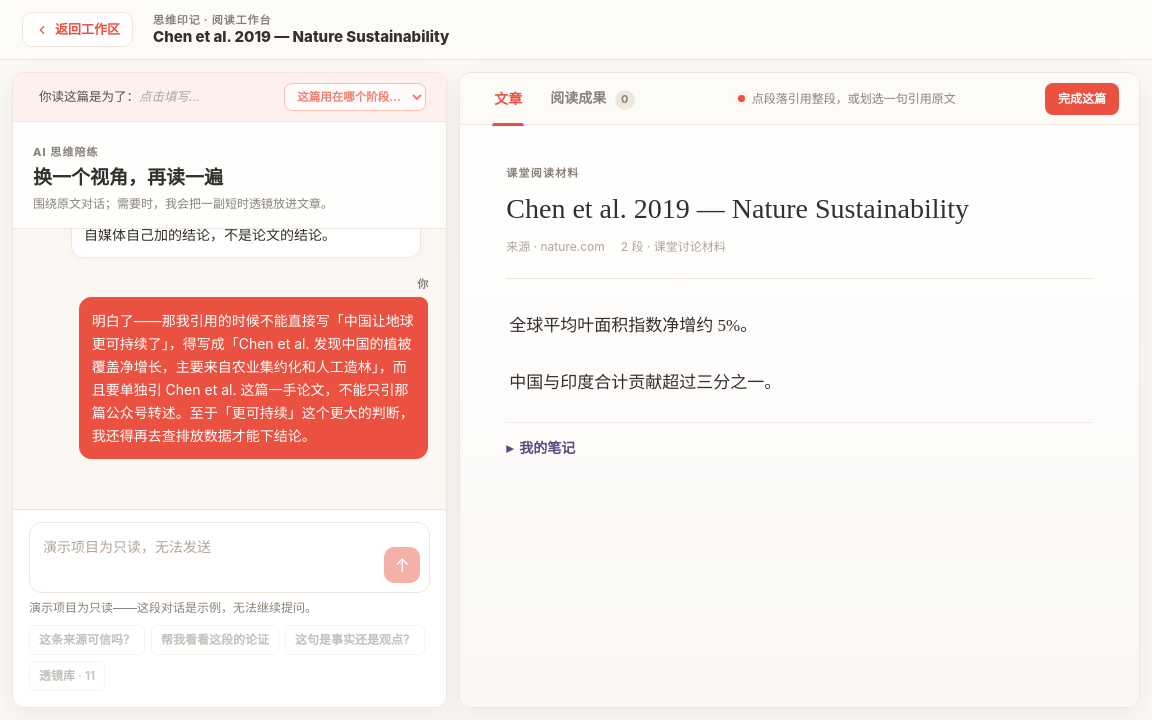
Test: ReadingRoom — demo replay (guided tour P6, Task 4) › disables the 完成这篇 finalize button and the 我的笔记 textarea
The width and height of the screenshot is (1152, 720).
(page scrolled)
Expected: the button "完成这篇" is disabled, [1045,82,1119,114]
Note: 我的笔记 is collapsed by default — open it, then check the textarea.
Click the button "▸ 我的笔记": (541, 447) [506,436,575,458]
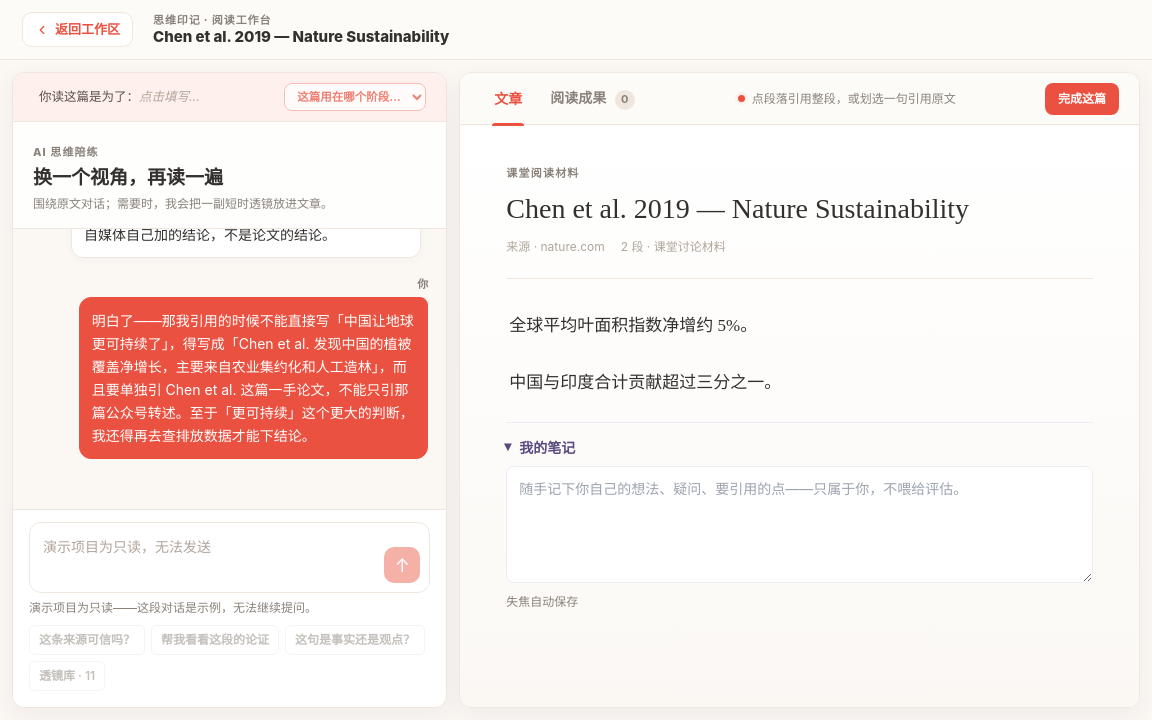
Expected: the text box with placeholder "随手记下你自己的想法、疑问、要引用的点——只属于你，不喂给评估。" is disabled, [506,466,1093,583]
